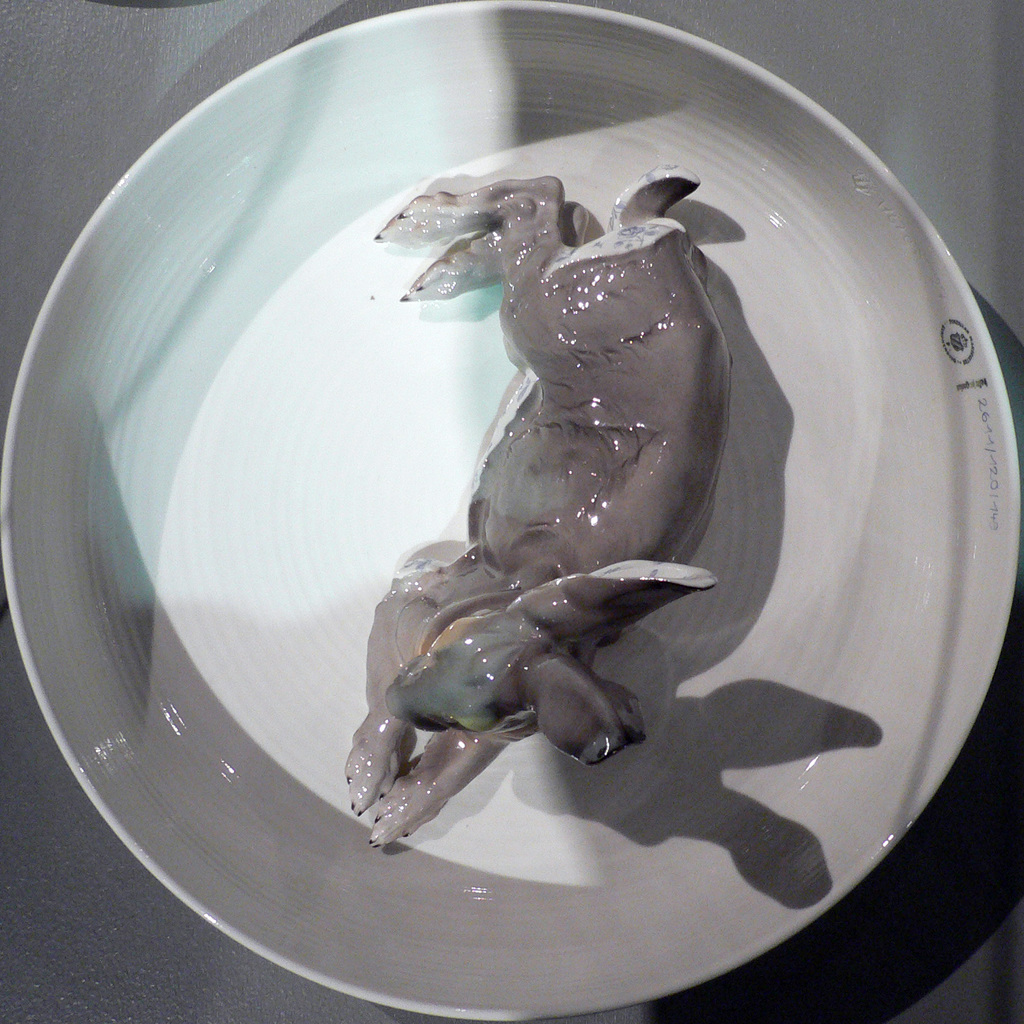plate: (0, 0, 1023, 1016)
